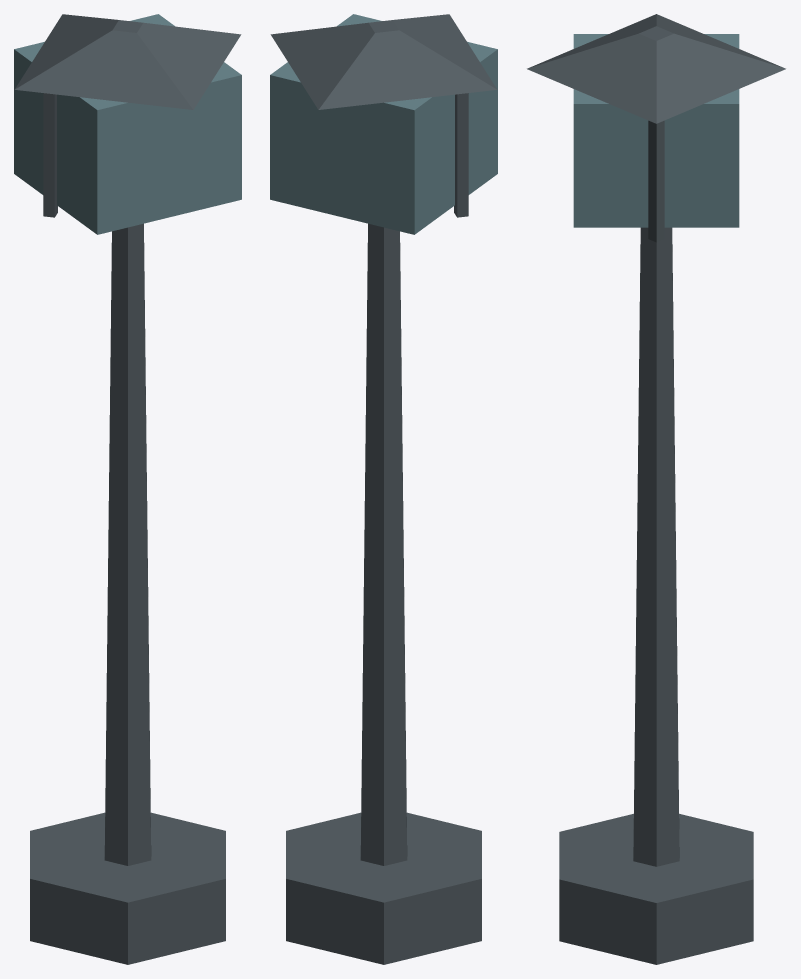
File: lamp_post.glb
3 renders of one model, left to right at view 1: azimuth 30°, elevation 25°; view 2: azimuth 150°, elevation 25°; view 3: azimuth 270°, elevation 25°, orthographic.
Parts seen in each view (by area): view 1: lamp_post; view 2: lamp_post; view 3: lamp_post.
Part boxes in pixels (bbox=[...]): lamp_post: bbox=[14, 14, 241, 964]; lamp_post: bbox=[270, 14, 497, 964]; lamp_post: bbox=[527, 14, 785, 964].
Size of the model in its own units: 0.96 by 3.6 by 0.96.
